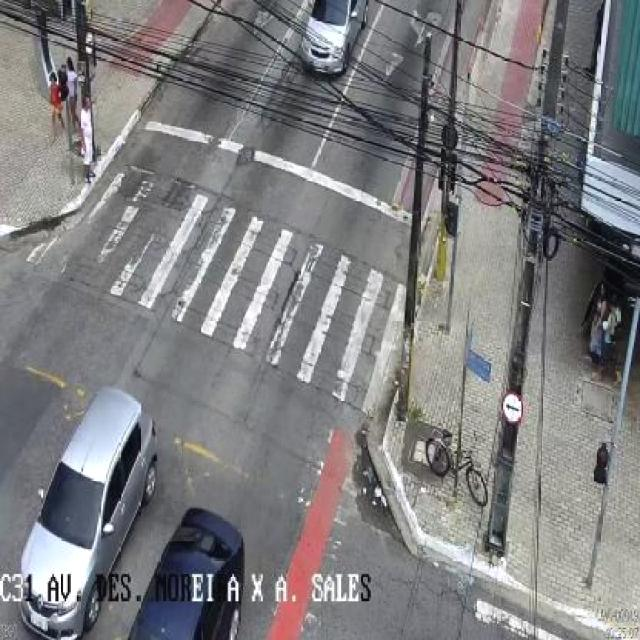Car: (20, 387, 160, 640), (126, 508, 246, 640), (300, 0, 370, 77)
Cycle: (422, 427, 490, 507)
